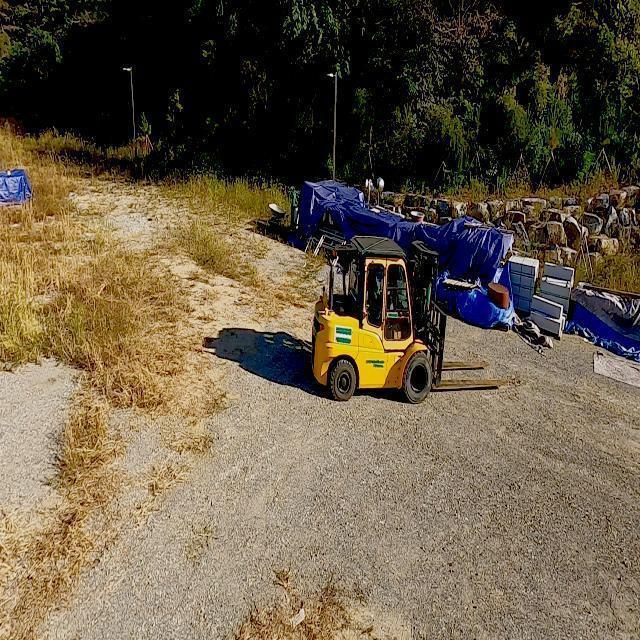forklift: (314, 235, 443, 404)
